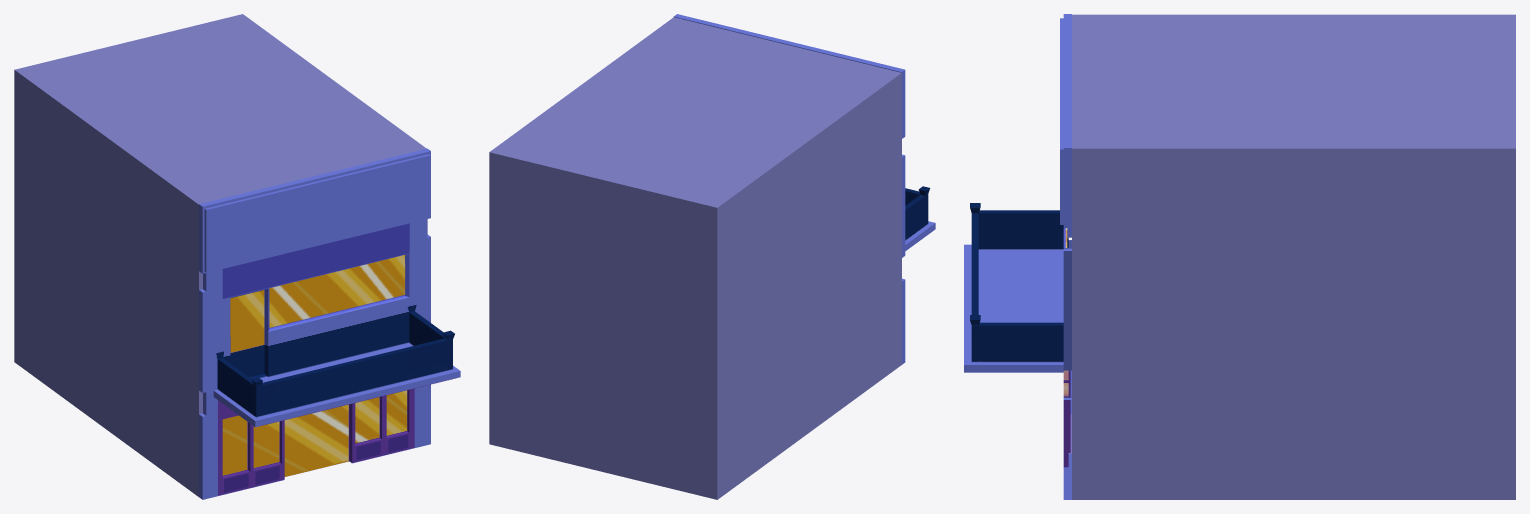
Rendered from Adam_Building_3.fbx.
3 renders of one model, left to right at view 1: azimuth 30°, elevation 25°; view 2: azimuth 150°, elevation 25°; view 3: azimuth 270°, elevation 25°, orthographic. The views are drawn at different scales.
Parts seen in each view (by area): view 1: Bldg_Combo_3:Inside_Building1, Bldg_Combo_3:JamQuestBuilding_Front2; view 2: Bldg_Combo_3:Inside_Building1, Bldg_Combo_3:JamQuestBuilding_Front2; view 3: Bldg_Combo_3:Inside_Building1, Bldg_Combo_3:JamQuestBuilding_Front2.
Part boxes in pixels (left/top/right/bottom): Bldg_Combo_3:Inside_Building1: left=14, top=14, right=427, bottom=496; Bldg_Combo_3:JamQuestBuilding_Front2: left=199, top=148, right=460, bottom=499; Bldg_Combo_3:Inside_Building1: left=489, top=17, right=901, bottom=499; Bldg_Combo_3:JamQuestBuilding_Front2: left=673, top=14, right=935, bottom=364; Bldg_Combo_3:Inside_Building1: left=1072, top=14, right=1515, bottom=499; Bldg_Combo_3:JamQuestBuilding_Front2: left=964, top=14, right=1071, bottom=499.
Bounding box in the file's own units: 5.82 × 7.14 × 10.14.
2 materials, 1 textured.
